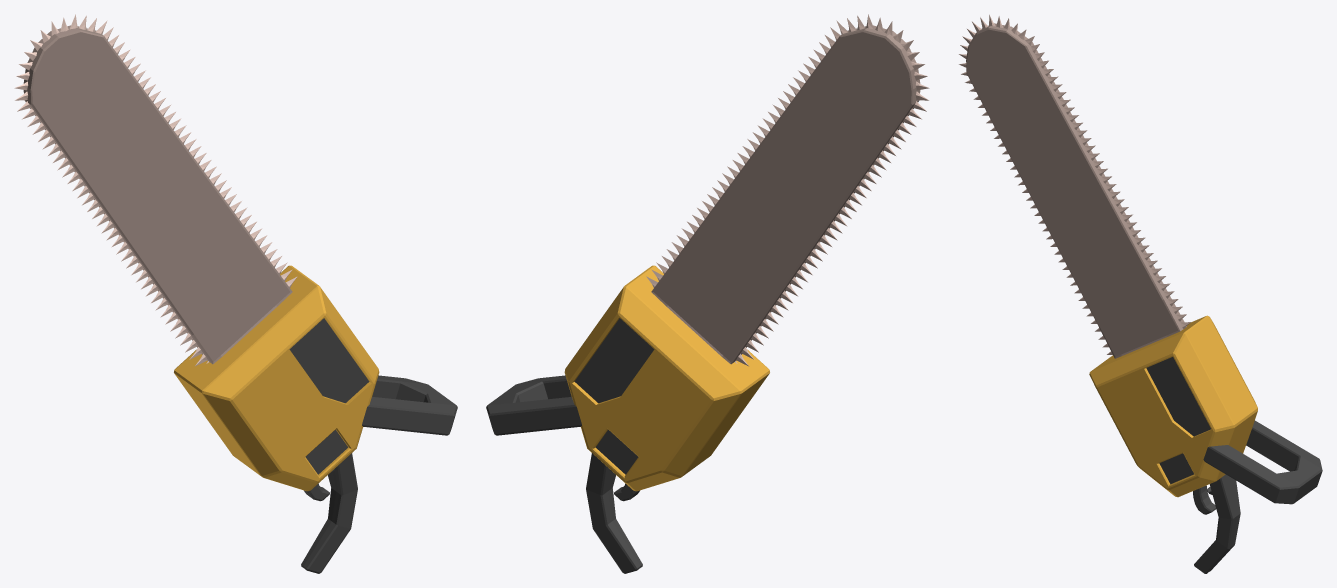
The model's file is motosierra_lowpoly.fbx.
3 renders of one model, left to right at view 1: azimuth 30°, elevation 25°; view 2: azimuth 150°, elevation 25°; view 3: azimuth 330°, elevation 25°, orthographic. The views are drawn at different scales.
Visible parts, largest first — view 1: Cube.011, Cube.012; view 2: Cube.011, Cube.012; view 3: Cube.011, Cube.012.
Part boxes in pixels (x1,y1,x2,y2): Cube.011: [23, 25, 457, 573]; Cube.012: [14, 14, 297, 366]; Cube.011: [486, 25, 920, 573]; Cube.012: [646, 14, 929, 366]; Cube.011: [966, 23, 1322, 573]; Cube.012: [959, 14, 1190, 354].
Size of the model in its own units: 356 by 488 by 70.51.
